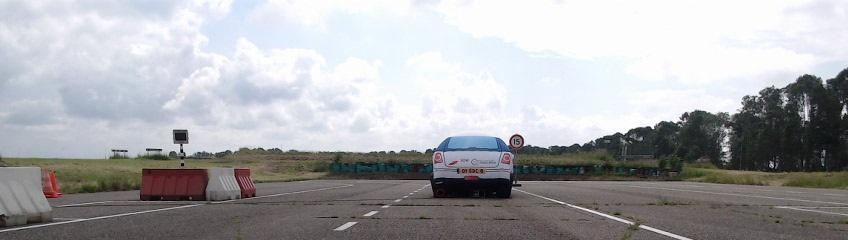Car: (432, 130, 514, 200)
Speed-limit-15km-h-: (509, 133, 524, 149)
